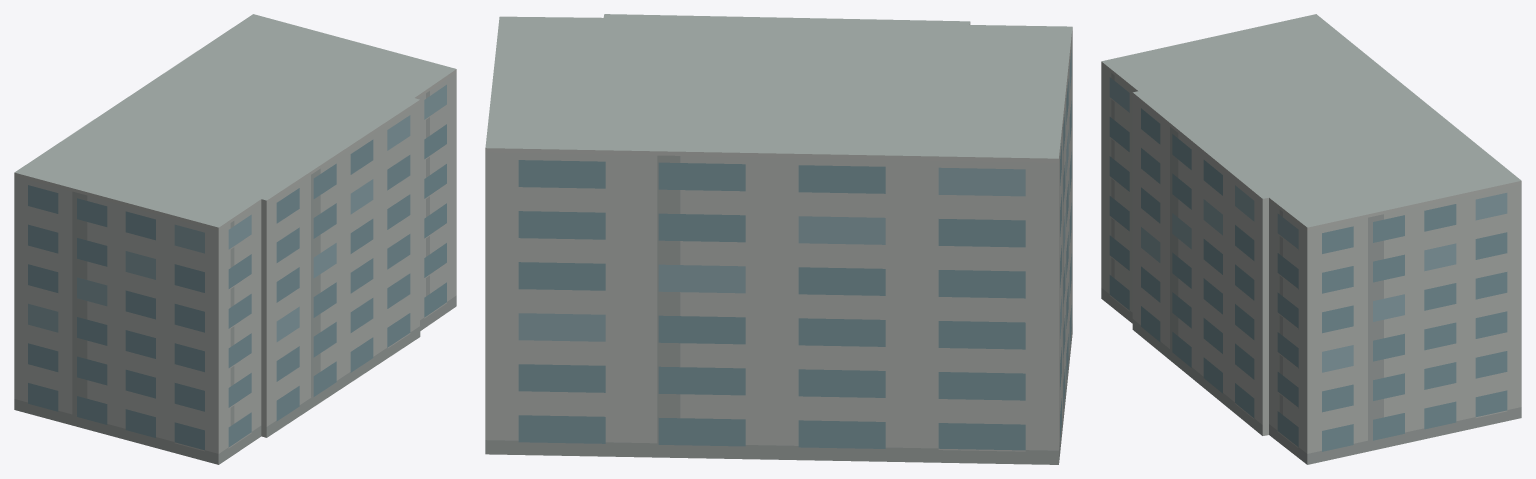
Rendered from survey-upis-32827568.glb.
3 views of the same model, side by side, from view 1: azimuth 30°, elevation 25°; view 2: azimuth 150°, elevation 25°; view 3: azimuth 270°, elevation 25° (orthographic). The views are drawn at different scales.
Visible parts, largest first — view 1: survey-upis-32827568.tmp; view 2: survey-upis-32827568.tmp; view 3: survey-upis-32827568.tmp.
Part boxes in pixels (box(x1,y1,x2,y2)): survey-upis-32827568.tmp: box(14, 14, 456, 464); survey-upis-32827568.tmp: box(485, 14, 1072, 464); survey-upis-32827568.tmp: box(1101, 14, 1521, 464).
Size of the model in its own units: 34.19 by 17.7 by 28.44.
